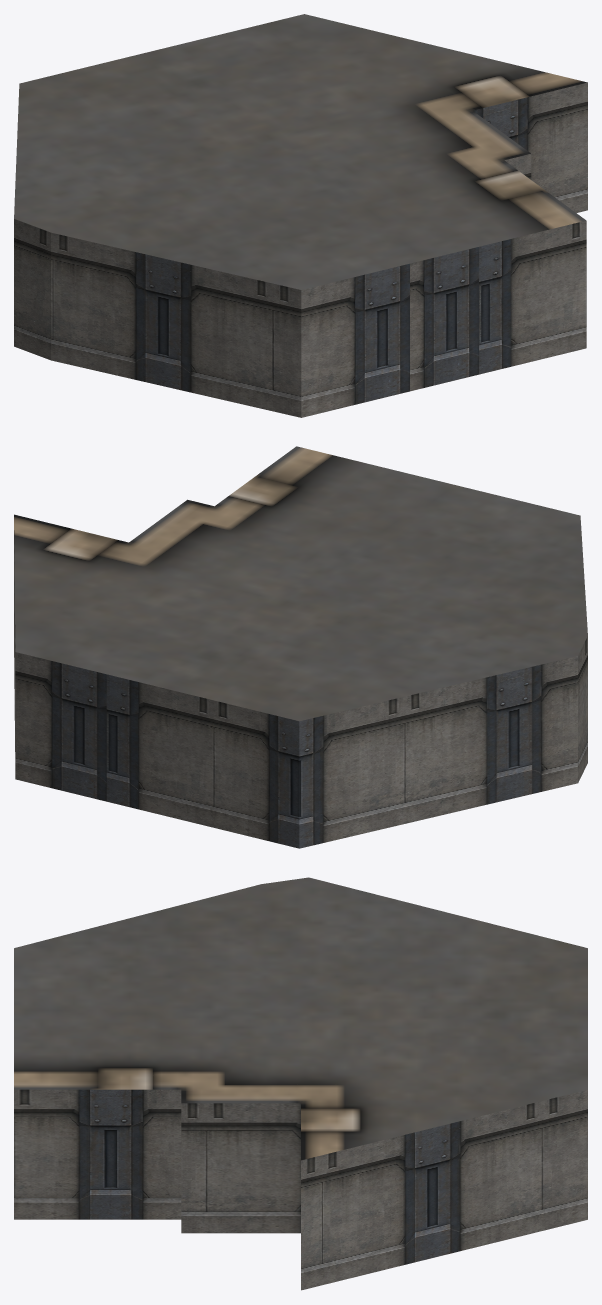
Rendered from building_heavy_59.glb.
The picture shows the model from 3 angles, top to bottom: view 1: azimuth 30°, elevation 25°; view 2: azimuth 150°, elevation 25°; view 3: azimuth 270°, elevation 25°; orthographic projection. The views are drawn at different scales.
Visible parts, largest first — view 1: buildings/saxarba/building_heavy/building_heavy_59; view 2: buildings/saxarba/building_heavy/building_heavy_59; view 3: buildings/saxarba/building_heavy/building_heavy_59.
Boxes of the visible parts, x1=… form: buildings/saxarba/building_heavy/building_heavy_59: x1=14, y1=14, x2=587, y2=417; buildings/saxarba/building_heavy/building_heavy_59: x1=14, y1=446, x2=587, y2=848; buildings/saxarba/building_heavy/building_heavy_59: x1=14, y1=877, x2=587, y2=1290.
Size of the model in its own units: 84 by 18 by 72.
